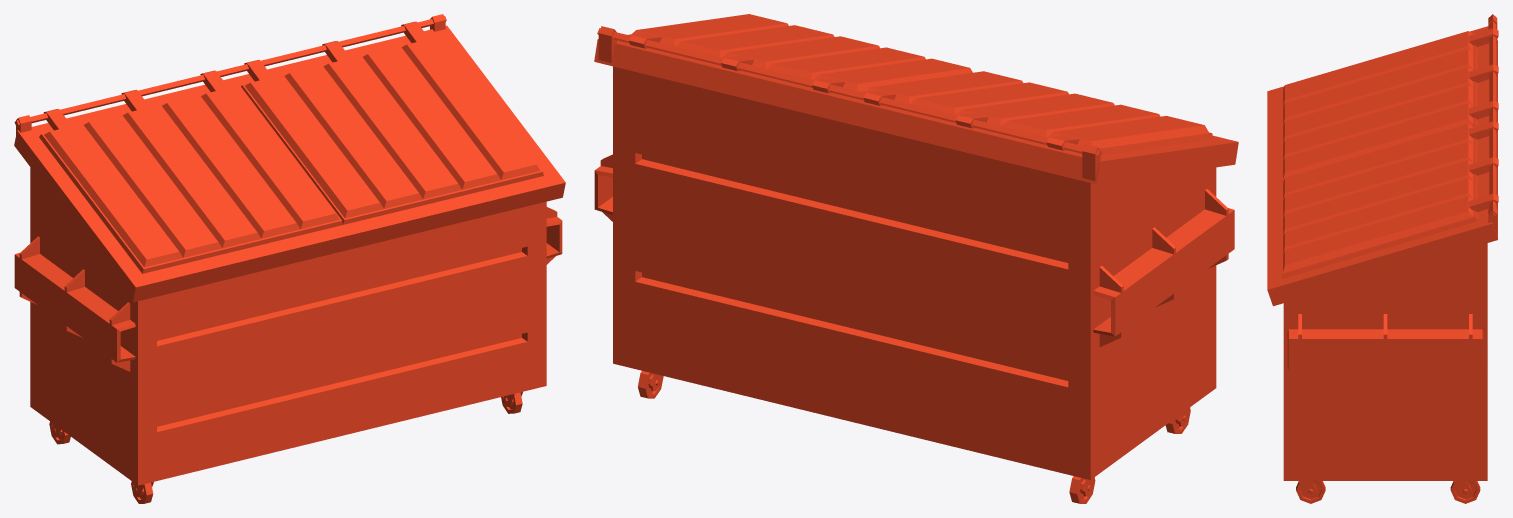
The model's file is SM_Container_Double_City.fbx.
3 renders of one model, left to right at view 1: azimuth 30°, elevation 25°; view 2: azimuth 150°, elevation 25°; view 3: azimuth 270°, elevation 25°, orthographic. The views are drawn at different scales.
Visible parts, largest first — view 1: SM_Container_Double_City_Base, SM_Container_Double_City_Door_R, SM_Container_Double_City_Door_L; view 2: SM_Container_Double_City_Base, SM_Container_Double_City_Door_R, SM_Container_Double_City_Door_L; view 3: SM_Container_Double_City_Base, SM_Container_Double_City_Door_L, SM_Container_Double_City_Door_R.
Boxes of the visible parts, x1,y1,x2,y2 form: SM_Container_Double_City_Base: (14,14,565,503); SM_Container_Double_City_Door_R: (39,70,342,273); SM_Container_Double_City_Door_L: (241,21,543,224); SM_Container_Double_City_Base: (594,26,1238,503); SM_Container_Double_City_Door_R: (863,71,1213,154); SM_Container_Double_City_Door_L: (628,14,972,93); SM_Container_Double_City_Base: (1267,14,1497,503); SM_Container_Double_City_Door_L: (1281,121,1498,278); SM_Container_Double_City_Door_R: (1281,28,1498,182).
Bounding box in the file's own units: 2.79 × 1.93 × 1.33.
